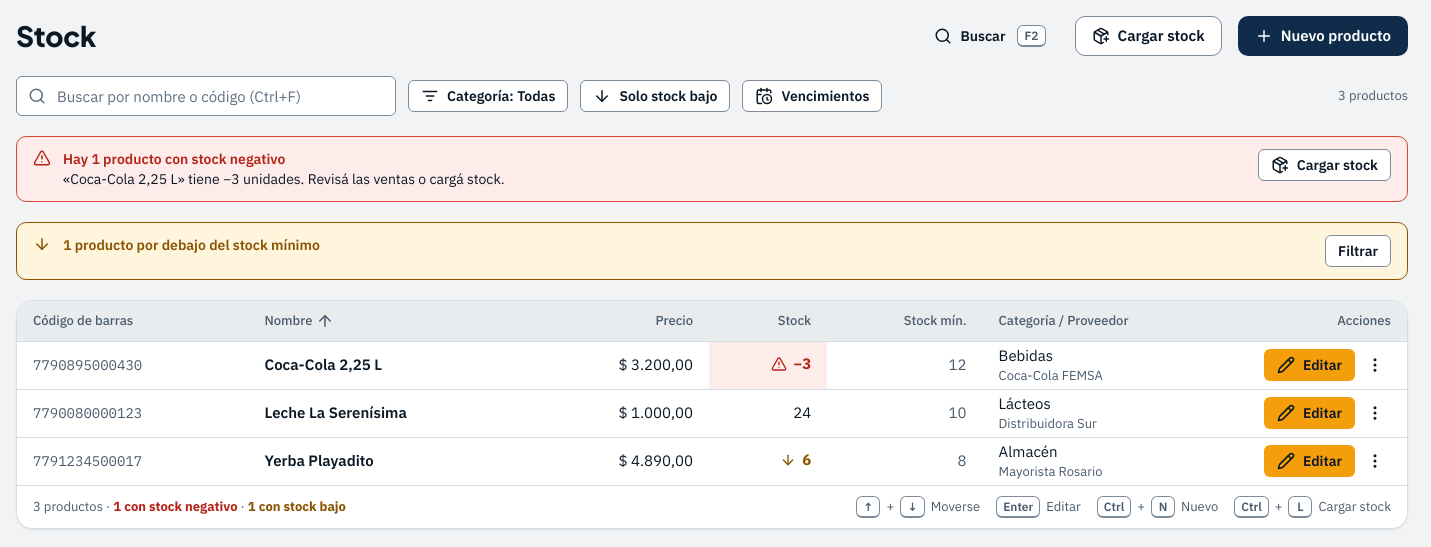
Test: StockProducts — buscador, filtros y orden › Enter con un código inexistente avisa con un toast
Type "999" into the field named "Buscar productos" at (206, 96), box [16,76,396,116]
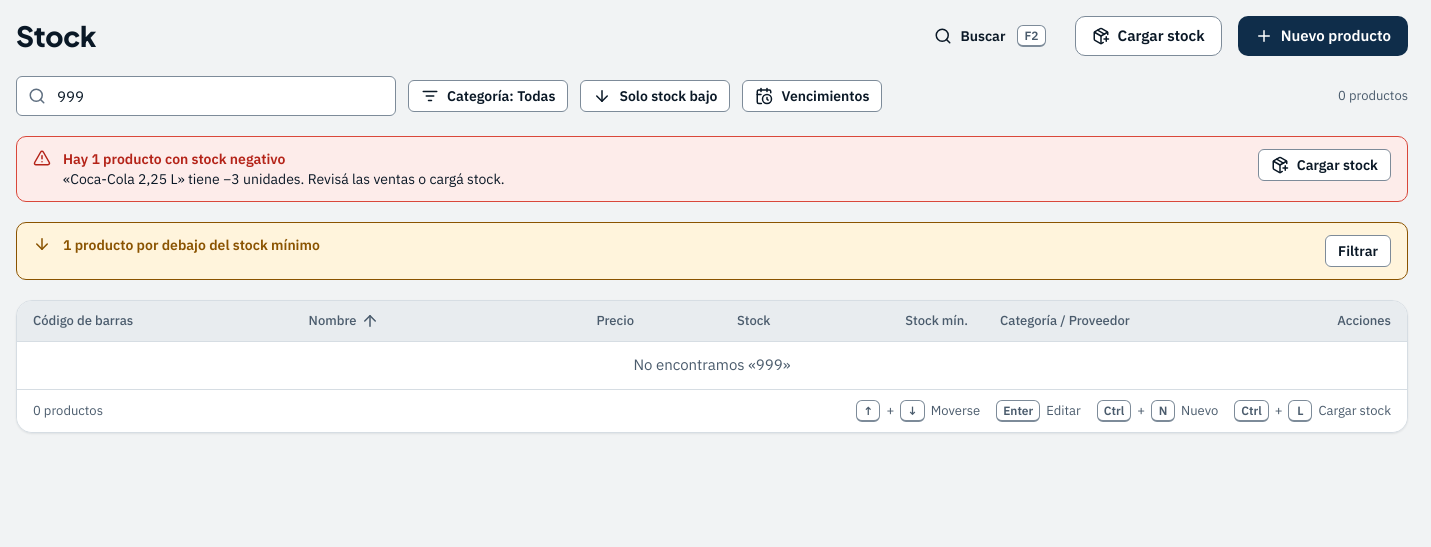
Press Enter in the field named "Buscar productos", box [16,76,396,116]
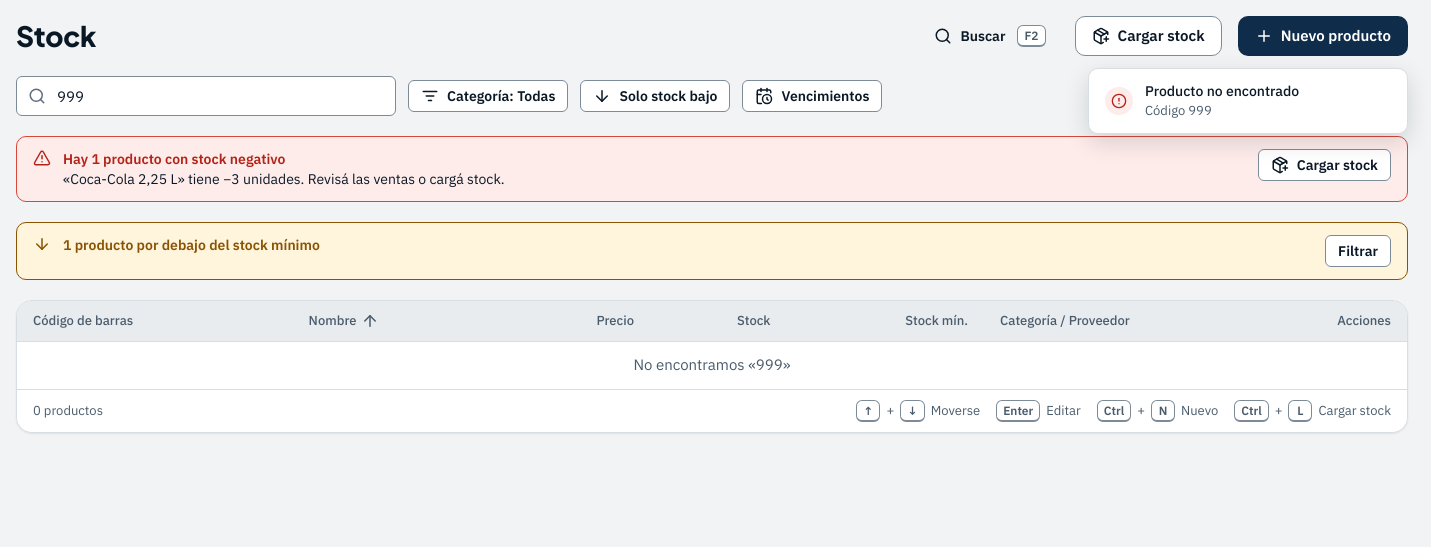
Check: the text "Producto no encontrado" is shown, box [1145,82,1299,100]
Check: the text "Código 999" is shown, box [1145,102,1212,119]
